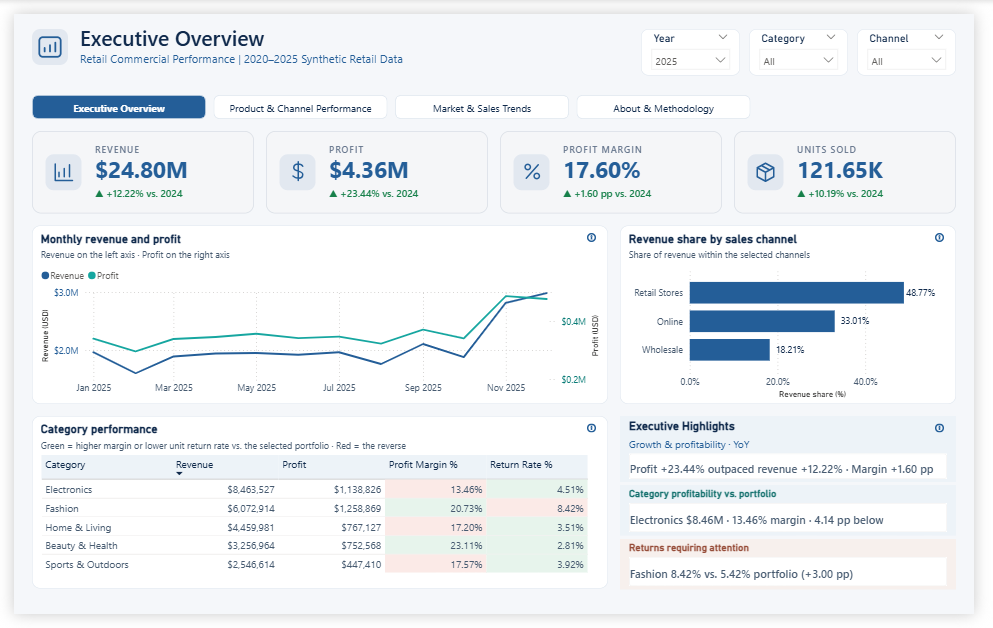

Layout of this report page (visuals, bound fields, positions):
{"tool":"powerbi","page":{"name":"Executive Overview","canvas":[1280,800],"ordinal":0},"visuals":[{"type":"textbox","box":[88,12,710,80],"z":0},{"type":"image","box":[24,20,48,48],"z":1000},{"type":"pageNavigator","box":[24,108,960,32],"z":2000},{"type":"slicer","fields":{"Values":["a_DimDate_portfolio.Year"]},"box":[836,20,132,62],"z":3000},{"type":"slicer","fields":{"Values":["a_DimProduct_portfolio.Category"]},"box":[980,20,132,62],"z":4000},{"type":"slicer","fields":{"Values":["a_FactSalesDaily_portfolio.Channel"]},"box":[1124,20,132,62],"z":5000},{"type":"image","box":[24,156,296,110],"z":6000},{"type":"image","box":[336,156,296,110],"z":7000},{"type":"image","box":[648,156,296,110],"z":8000},{"type":"image","box":[960,156,296,110],"z":9000},{"type":"lineChart","title":"Monthly revenue and profit","fields":{"Category":["a_DimDate_portfolio.MonthStart"],"Y":["_Measures.Total Revenue"],"Y2":["_Measures.Total Profit"]},"box":[24,282,768,238],"z":10000},{"type":"clusteredBarChart","title":"Revenue share by sales channel","fields":{"Category":["a_FactSalesDaily_portfolio.Channel"],"Y":["_Measures.Revenue Share %"]},"box":[808,282,448,238],"z":11000},{"type":"tableEx","title":"Category performance","fields":{"Values":["a_DimProduct_portfolio.Category","_Measures.Total Revenue","_Measures.Total Profit","_Measures.Profit Margin %","_Measures.Return Rate %"]},"box":[24,536,768,230],"z":12000},{"type":"cardVisual","title":"Executive Highlights","fields":{"Data":["_Measures.Executive Growth Highlight"]},"box":[808,536,448,88],"z":13000},{"type":"cardVisual","title":"Category profitability vs. portfolio","fields":{"Data":["_Measures.Executive Category Highlight"]},"box":[808,628,448,67],"z":14000},{"type":"cardVisual","title":"Returns requiring attention","fields":{"Data":["_Measures.Executive Return Rate Highlight"]},"box":[808,699,448,67],"z":15000},{"type":"actionButton","box":[1224,542,20,20],"z":16000},{"type":"actionButton","box":[760,288,20,20],"z":17000},{"type":"actionButton","box":[1224,288,20,20],"z":18000},{"type":"actionButton","box":[760,542,20,20],"z":19000}]}

Visuals, with their boxes in screenshot pixels (x1, y1, x2, y2), scaled from the page's 1280x800 canvas onto the 993x628 screenshot:
textbox: left=68, top=9, right=619, bottom=72
image: left=19, top=16, right=56, bottom=53
pageNavigator: left=19, top=85, right=763, bottom=110
slicer - a_DimDate_portfolio.Year: left=649, top=16, right=751, bottom=64
slicer - a_DimProduct_portfolio.Category: left=760, top=16, right=863, bottom=64
slicer - a_FactSalesDaily_portfolio.Channel: left=872, top=16, right=974, bottom=64
image: left=19, top=122, right=248, bottom=209
image: left=261, top=122, right=490, bottom=209
image: left=503, top=122, right=732, bottom=209
image: left=745, top=122, right=974, bottom=209
"Monthly revenue and profit" lineChart: left=19, top=221, right=614, bottom=408
"Revenue share by sales channel" clusteredBarChart: left=627, top=221, right=974, bottom=408
"Category performance" tableEx: left=19, top=421, right=614, bottom=601
"Executive Highlights" cardVisual: left=627, top=421, right=974, bottom=490
"Category profitability vs. portfolio" cardVisual: left=627, top=493, right=974, bottom=546
"Returns requiring attention" cardVisual: left=627, top=549, right=974, bottom=601
actionButton: left=950, top=425, right=965, bottom=441
actionButton: left=590, top=226, right=605, bottom=242
actionButton: left=950, top=226, right=965, bottom=242
actionButton: left=590, top=425, right=605, bottom=441
